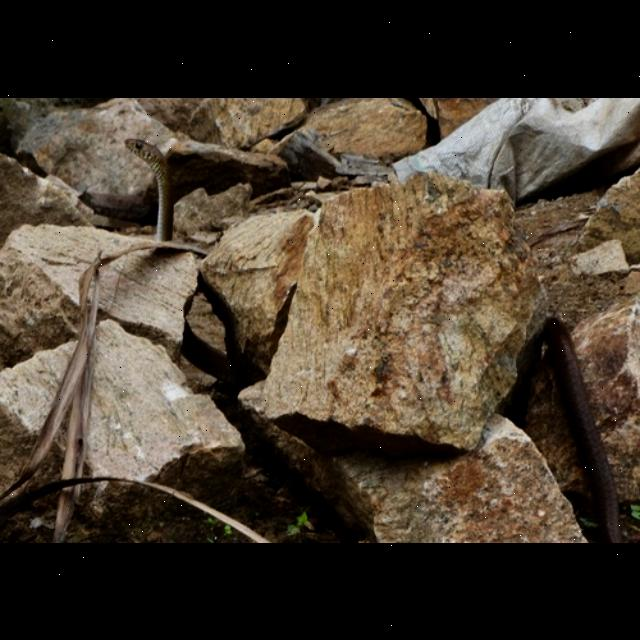snake: (119, 132, 177, 242)
